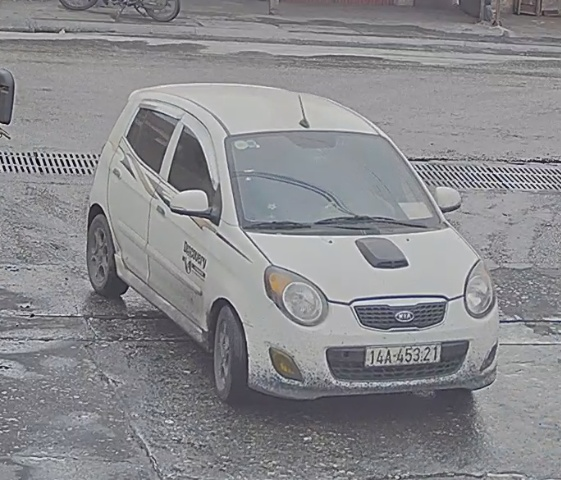vehicle plate: (364, 343, 441, 370)
